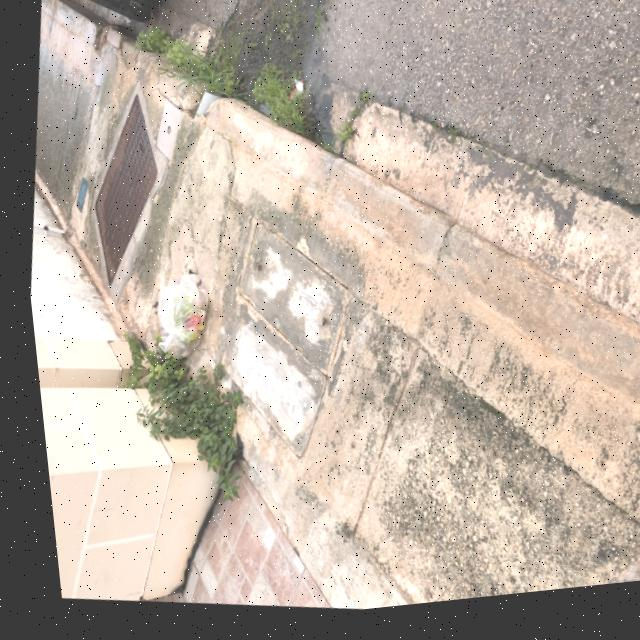Organic Waste -White Bag-: (139, 269, 211, 366)
